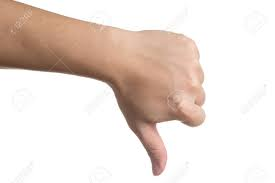thumbs_up: (71, 4, 250, 172)
